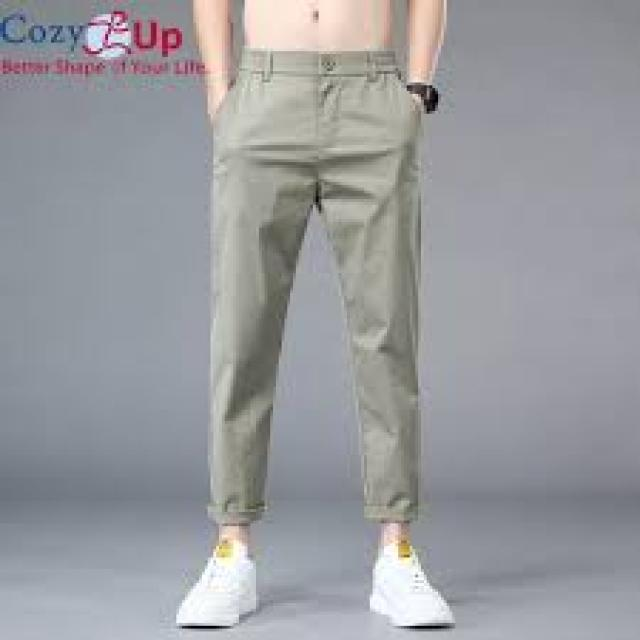pants: (205, 43, 428, 524)
